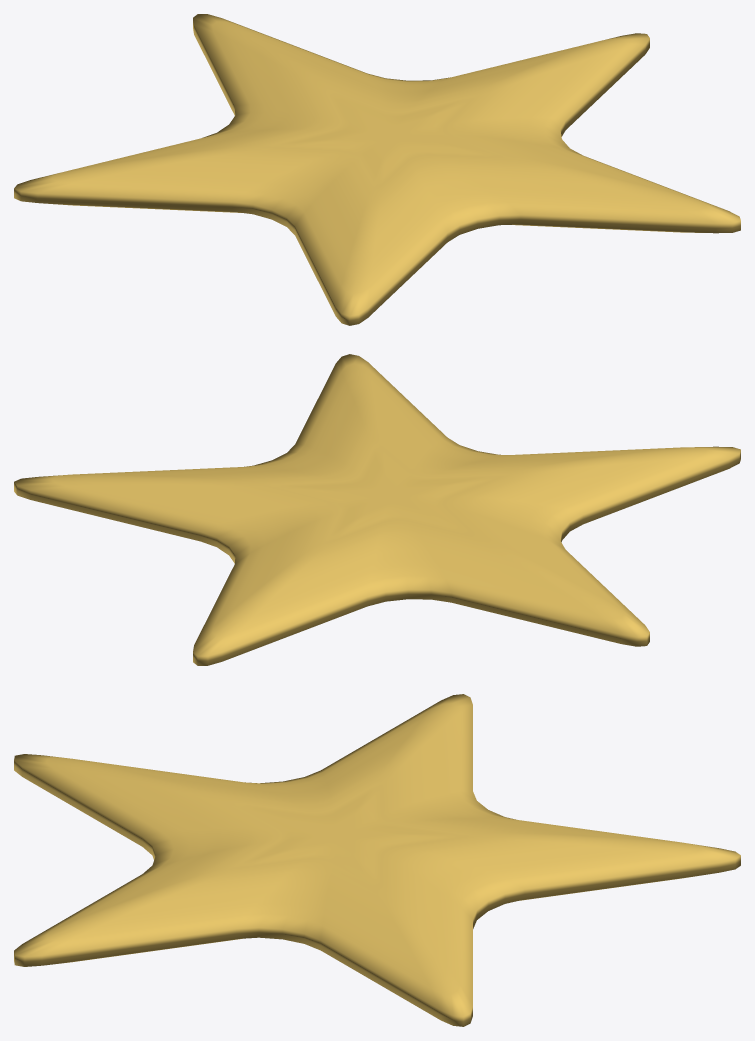
The model's file is star.fbx.
3 views of the same model, one above another, from view 1: azimuth 30°, elevation 25°; view 2: azimuth 150°, elevation 25°; view 3: azimuth 270°, elevation 25° (orthographic). The views are drawn at different scales.
Parts seen in each view (by area): view 1: Cylinder.011; view 2: Cylinder.011; view 3: Cylinder.011.
Boxes of the visible parts, left/top/right/bottom form: Cylinder.011: left=14, top=14, right=740, bottom=325; Cylinder.011: left=14, top=354, right=740, bottom=665; Cylinder.011: left=14, top=694, right=740, bottom=1026.
Size of the model in its own units: 221 by 16.34 by 210.
